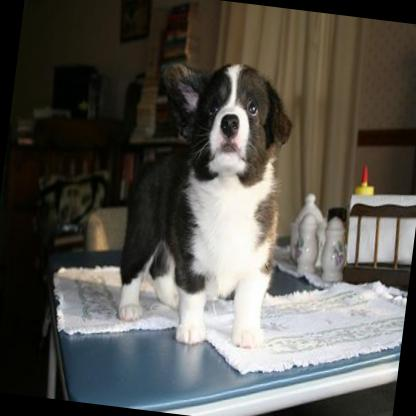Cardigan: (106, 47, 299, 359)
